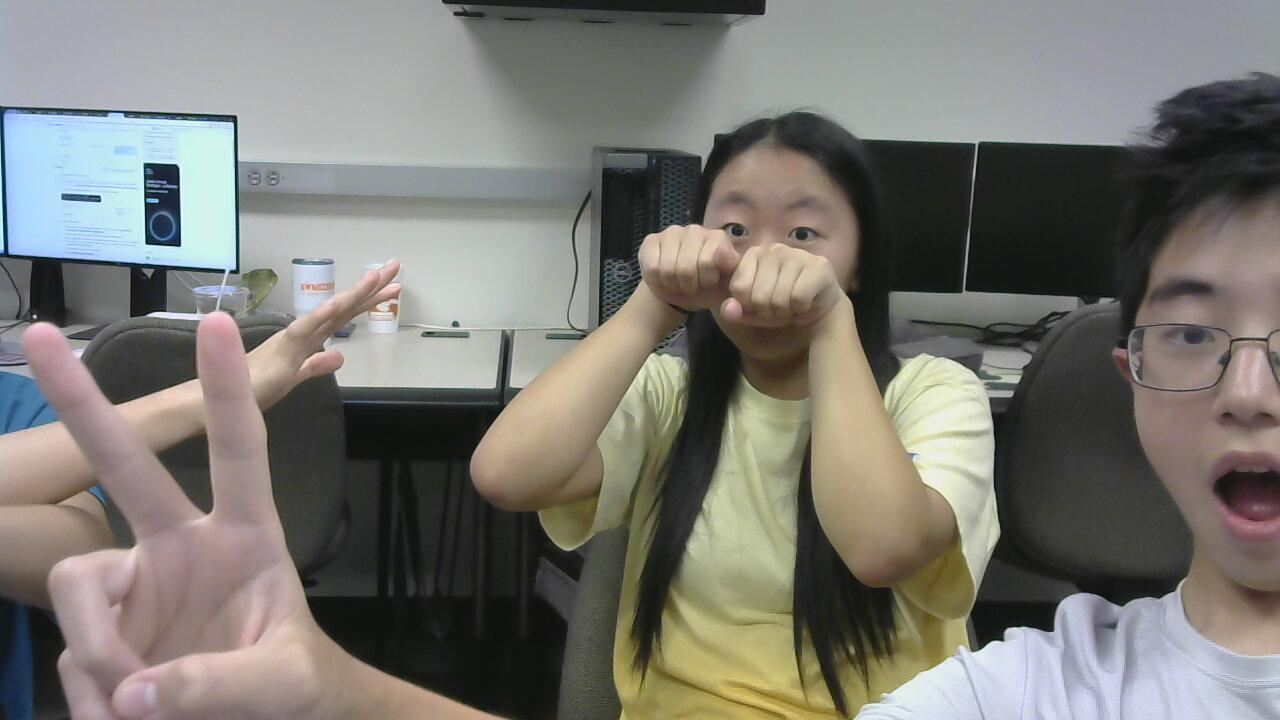fist: (626, 210, 734, 317), (734, 240, 852, 330)
hands: (234, 262, 410, 402)
peace: (14, 313, 337, 720)
